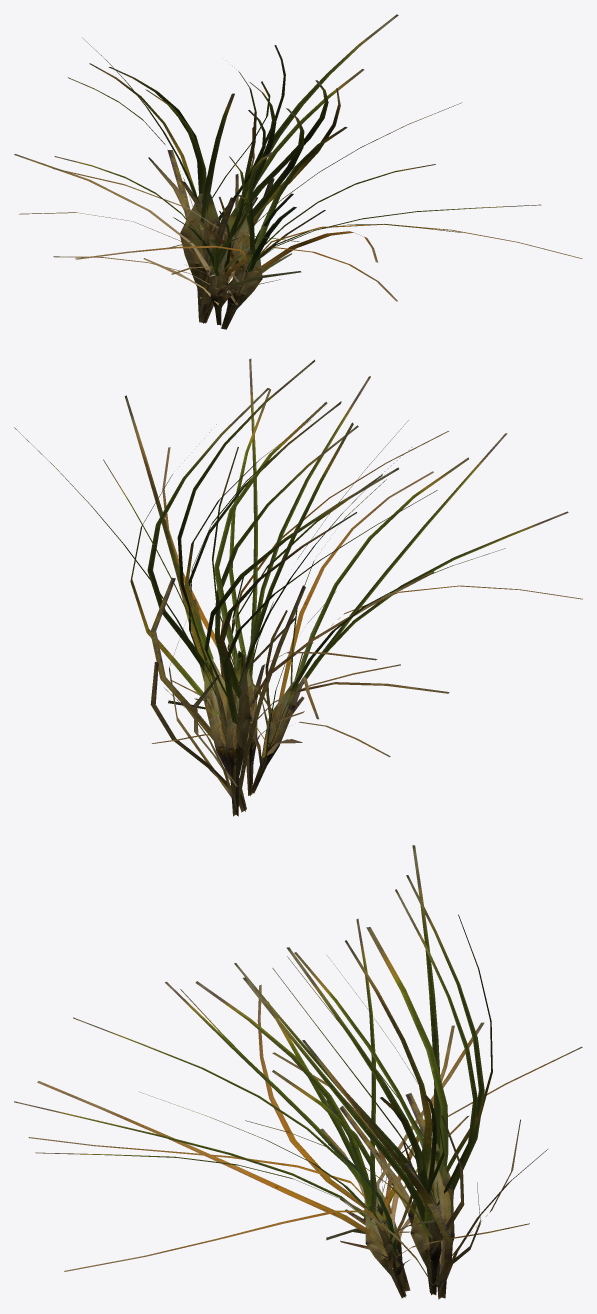
The model's file is Rumput 2.fbx.
3 renders of one model, top to bottom at view 1: azimuth 30°, elevation 25°; view 2: azimuth 150°, elevation 25°; view 3: azimuth 270°, elevation 25°, orthographic. The views are drawn at different scales.
Parts seen in each view (by area): view 1: rumput 2; view 2: rumput 2; view 3: rumput 2.
Boxes of the visible parts, box(x1,y1,x2,y2) form: rumput 2: box(14, 14, 582, 329); rumput 2: box(14, 358, 582, 816); rumput 2: box(14, 845, 582, 1299).
Size of the model in its own units: 43.88 by 32.21 by 43.98.
